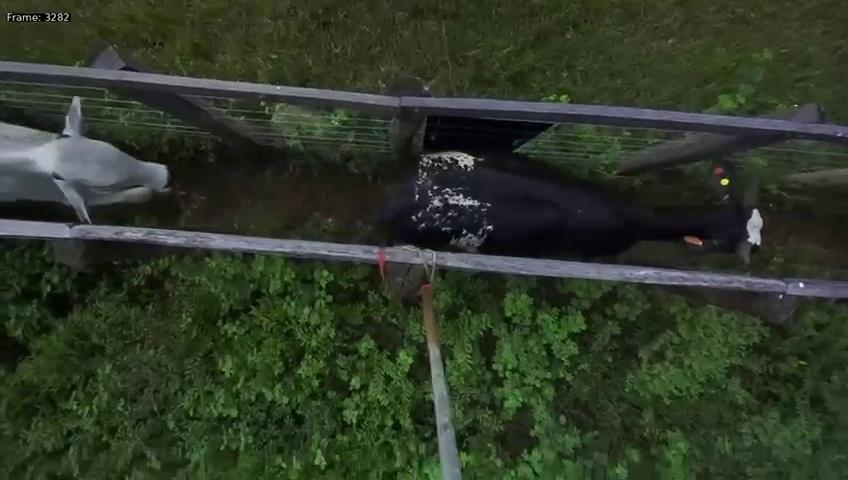cattle: (380, 141, 778, 271), (1, 96, 171, 227)
